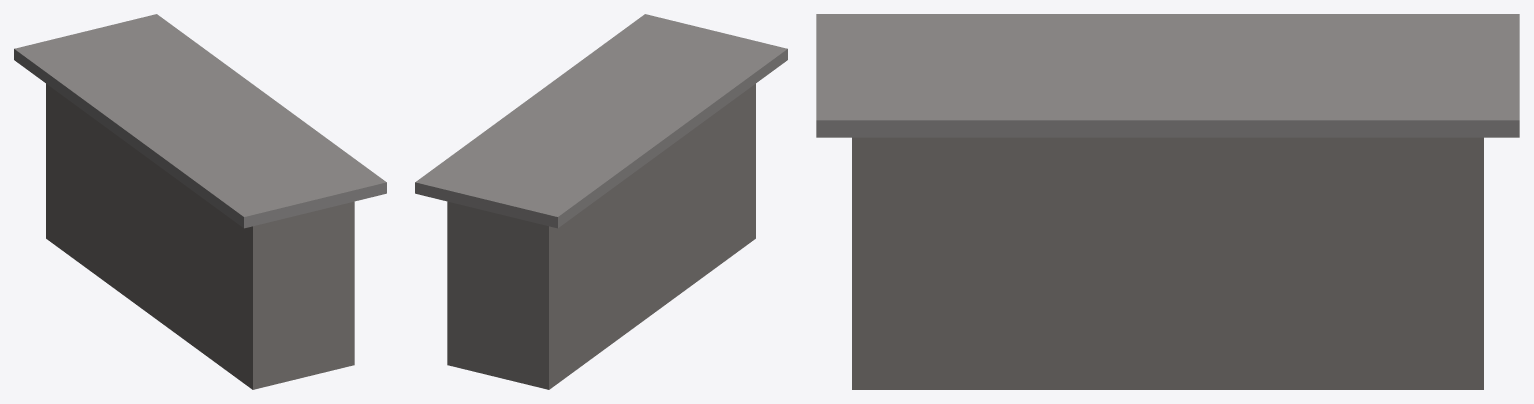
Rendered from centro.obj.
The picture shows the model from 3 angles, left to right: view 1: azimuth 30°, elevation 25°; view 2: azimuth 150°, elevation 25°; view 3: azimuth 270°, elevation 25°; orthographic projection. The views are drawn at different scales.
Parts seen in each view (by area): view 1: Mesa_centro; view 2: Mesa_centro; view 3: Mesa_centro.
Part boxes in pixels (x1=…): Mesa_centro: x1=14, y1=14, x2=386, y2=389; Mesa_centro: x1=415, y1=14, x2=787, y2=389; Mesa_centro: x1=816, y1=14, x2=1519, y2=389.
Size of the model in its own units: 3.61 by 4.51 by 10.09.
1 material, 1 textured.
